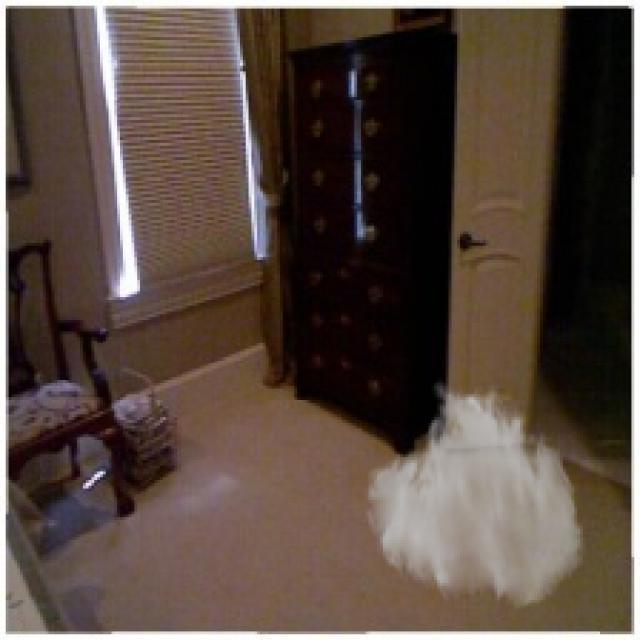Smoke: (363, 377, 586, 612)
